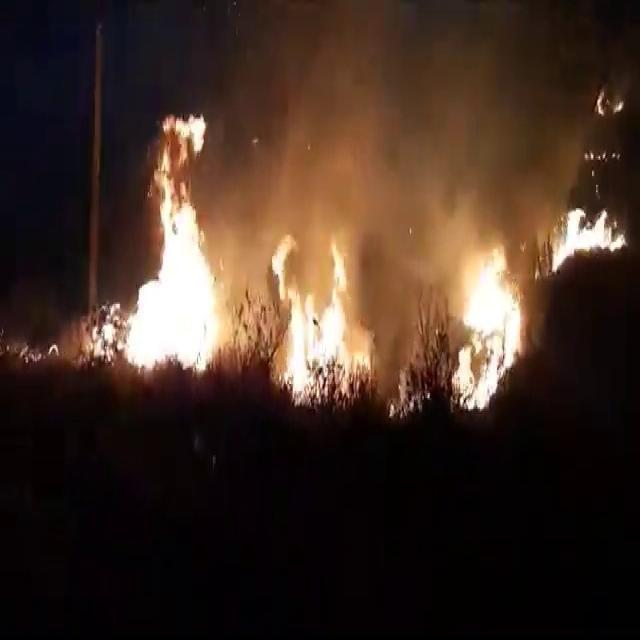Fire: (92, 116, 236, 383), (254, 233, 384, 407), (451, 244, 530, 411), (550, 200, 632, 280)
Smoke: (238, 2, 626, 242)
